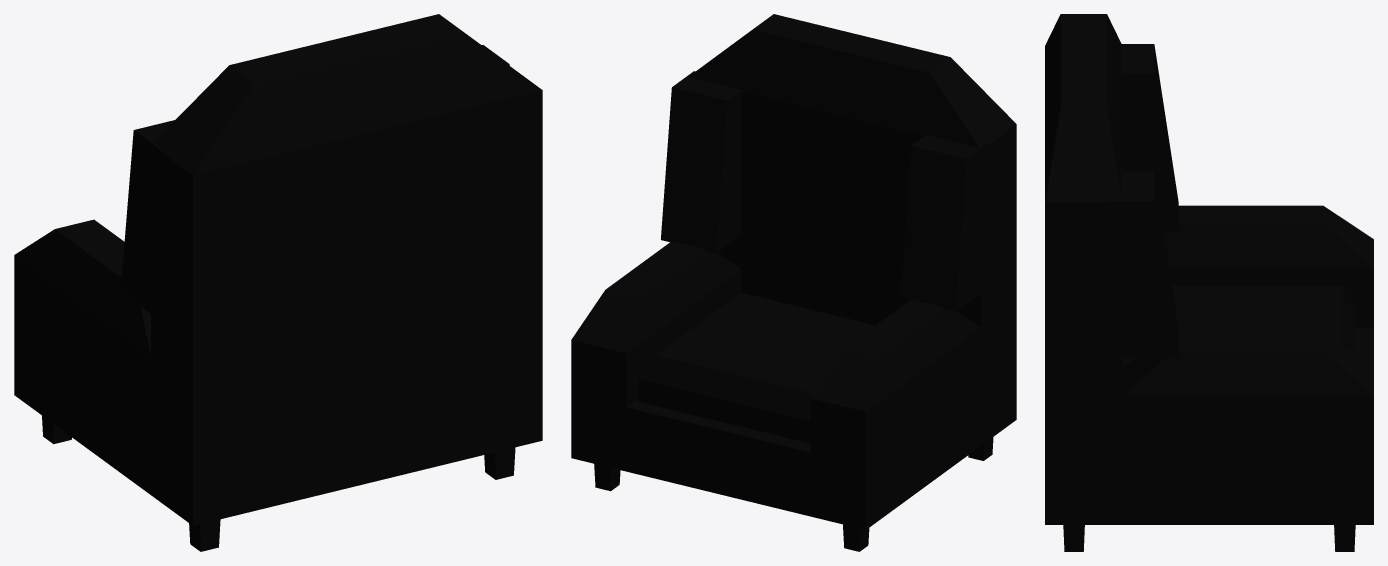
File: SM_armchair_leather.fbx
3 renders of one model, left to right at view 1: azimuth 30°, elevation 25°; view 2: azimuth 150°, elevation 25°; view 3: azimuth 270°, elevation 25°, orthographic. The views are drawn at different scales.
Parts seen in each view (by area): view 1: armchair_leather; view 2: armchair_leather; view 3: armchair_leather.
Boxes of the visible parts, x1=… form: armchair_leather: x1=14, y1=14, x2=542, y2=551; armchair_leather: x1=571, y1=14, x2=1016, y2=551; armchair_leather: x1=1045, y1=14, x2=1373, y2=551.
Bounding box in the file's own units: 0.96 × 1.2 × 0.85.
